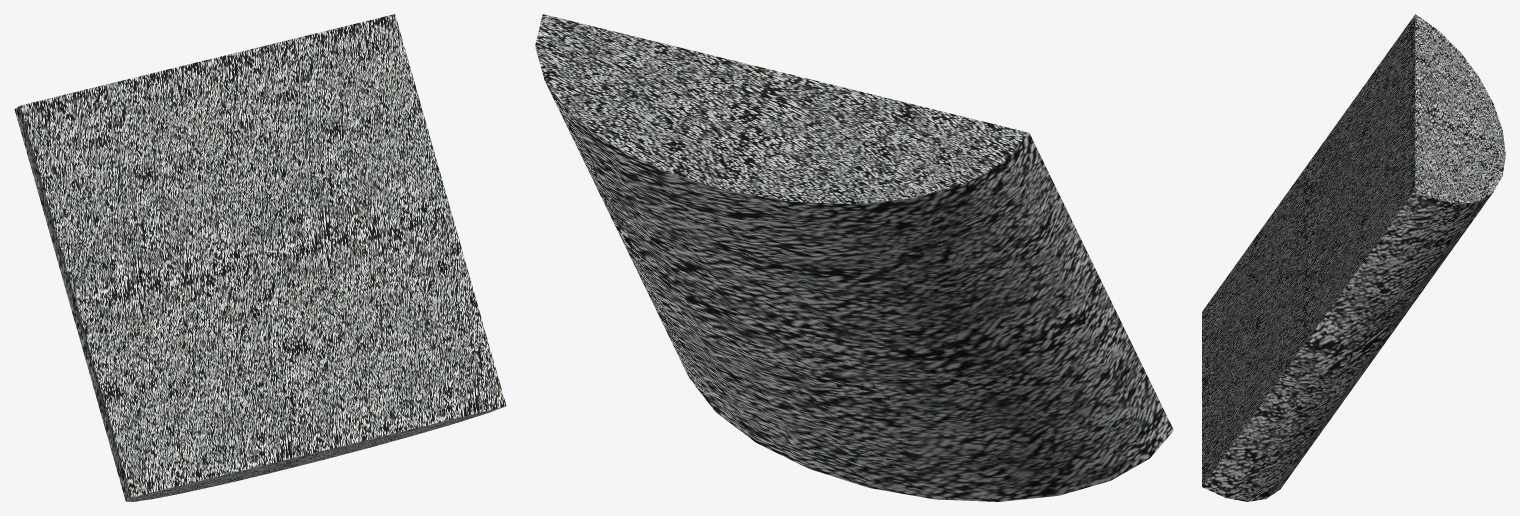
The model's file is Primitive_131-111--026__7cc152af-aaed-4fb3-b5ee-05af6d71d2ff.dae.
3 renders of one model, left to right at view 1: azimuth 30°, elevation 25°; view 2: azimuth 150°, elevation 25°; view 3: azimuth 270°, elevation 25°, orthographic. The views are drawn at different scales.
Visible parts, largest first — view 1: Primitive; view 2: Primitive; view 3: Primitive.
Boxes of the visible parts, box(x1,y1,x2,y2) form: Primitive: box(14, 14, 506, 501); Primitive: box(535, 14, 1173, 501); Primitive: box(1202, 14, 1505, 501).
Size of the model in its own units: 0.25 by 0.1831 by 0.2334.
